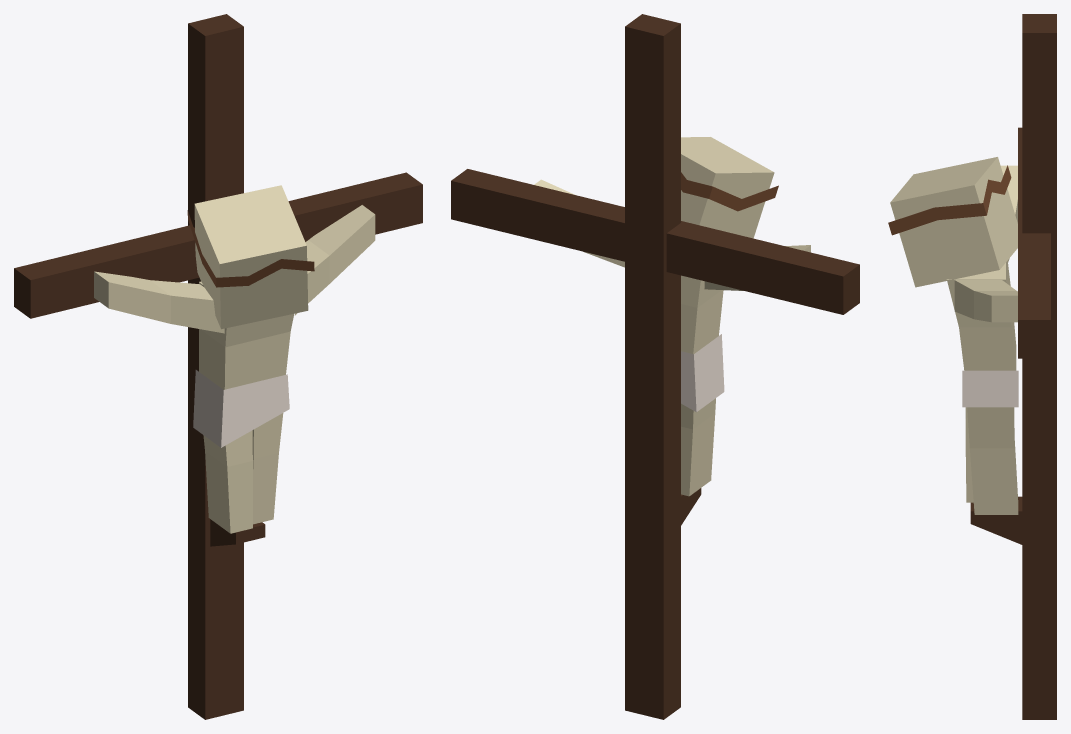
File: Jesus.glb
3 renders of one model, left to right at view 1: azimuth 30°, elevation 25°; view 2: azimuth 150°, elevation 25°; view 3: azimuth 270°, elevation 25°, orthographic.
Visible parts, largest first — view 1: JesusCross; view 2: JesusCross; view 3: JesusCross.
Part boxes in pixels (x1,y1,x2,y2): JesusCross: (14,14,422,719); JesusCross: (451,14,859,719); JesusCross: (888,14,1056,719).
Bounding box in the file's own units: 0.5746 × 0.9569 × 0.2129.
1 material, 1 textured.
